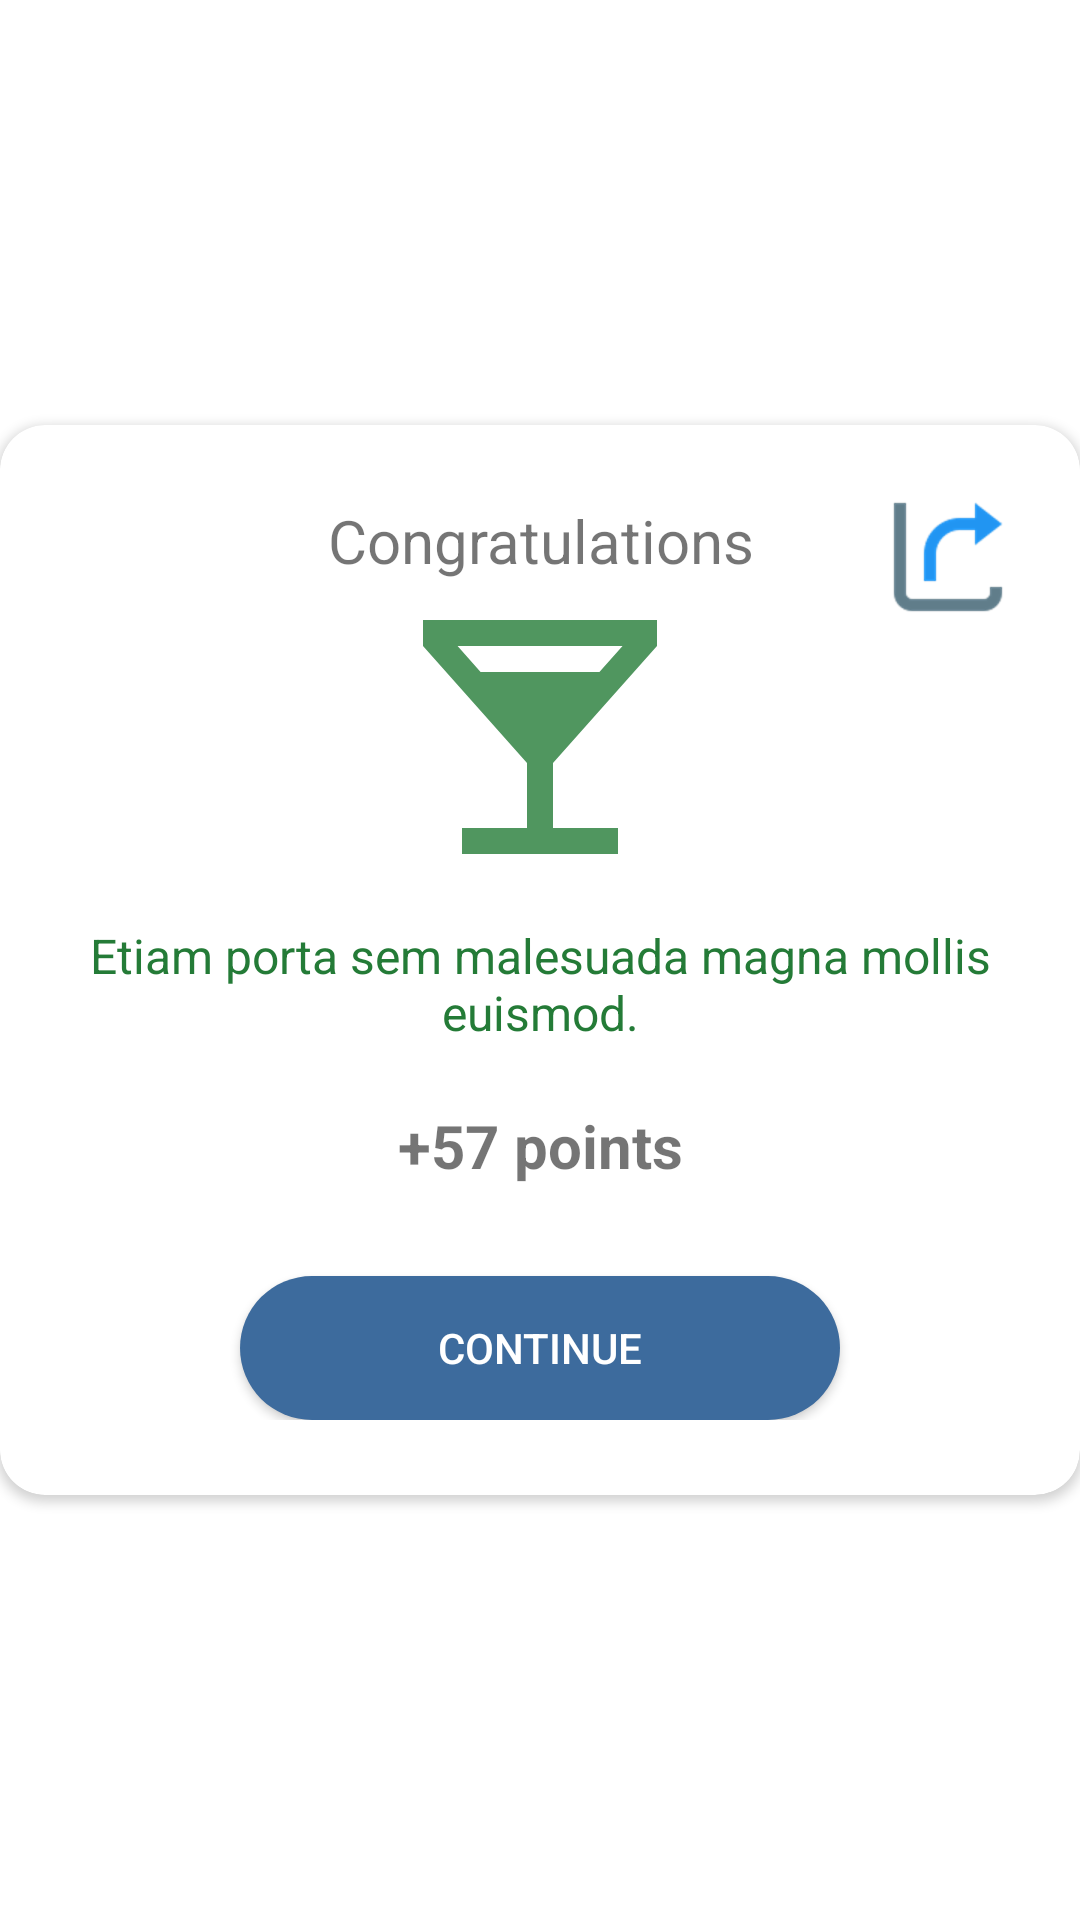

Locate icon controls on the screen. Image size 1080*1920, boxes as (x1, y1, x2, y2).
local bar: (423, 620, 657, 854)
share: (893, 502, 1003, 612)
